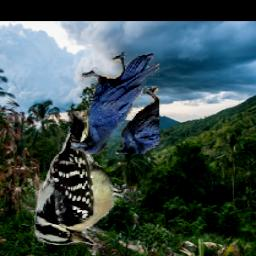Crow: (69, 51, 159, 155)
Woodpecker: (31, 111, 141, 248)
